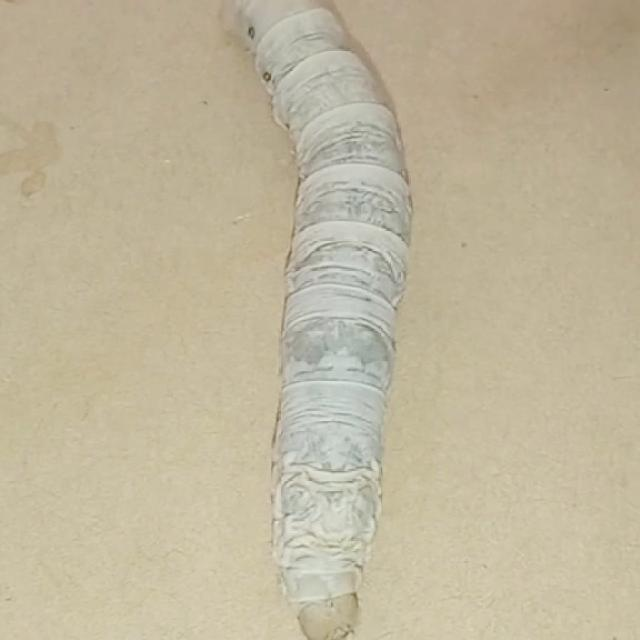Grasserie: (176, 0, 472, 640)
